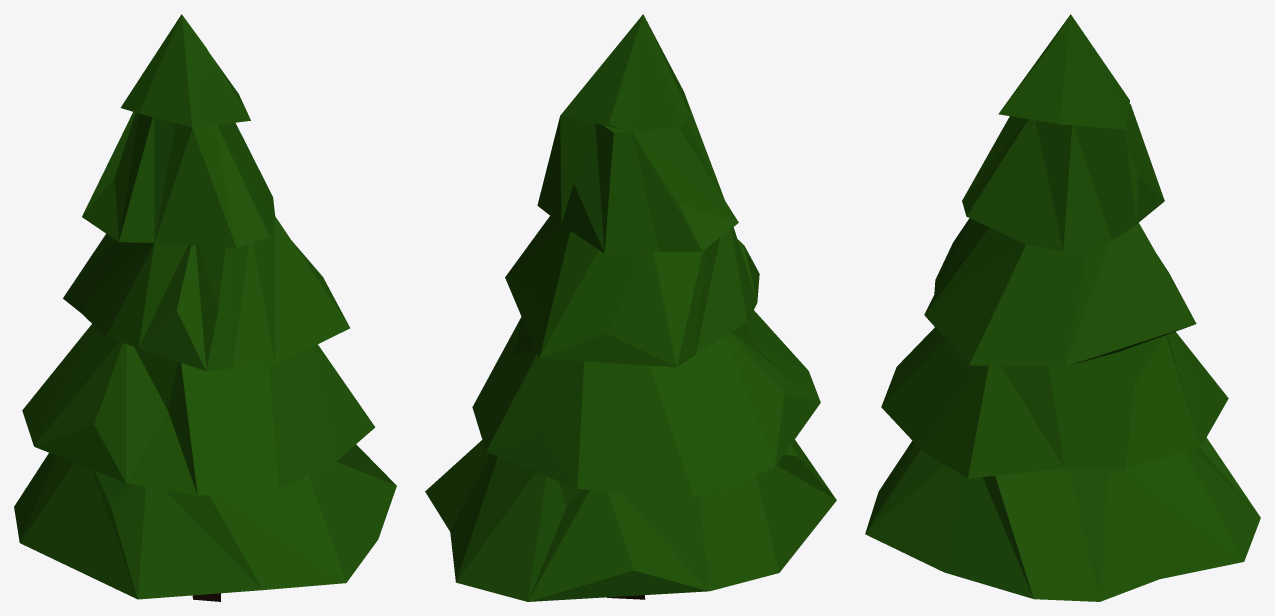
File: tree2_3.FBX
3 renders of one model, left to right at view 1: azimuth 30°, elevation 25°; view 2: azimuth 150°, elevation 25°; view 3: azimuth 270°, elevation 25°, orthographic. The views are drawn at different scales.
Visible parts, largest first — view 1: tree2_3; view 2: tree2_3; view 3: tree2_3.
Part boxes in pixels (x1=…): tree2_3: x1=14, y1=14, x2=396, y2=601; tree2_3: x1=425, y1=14, x2=836, y2=601; tree2_3: x1=865, y1=14, x2=1260, y2=601.
Bounding box in the file's own units: 367 × 588 × 373.
